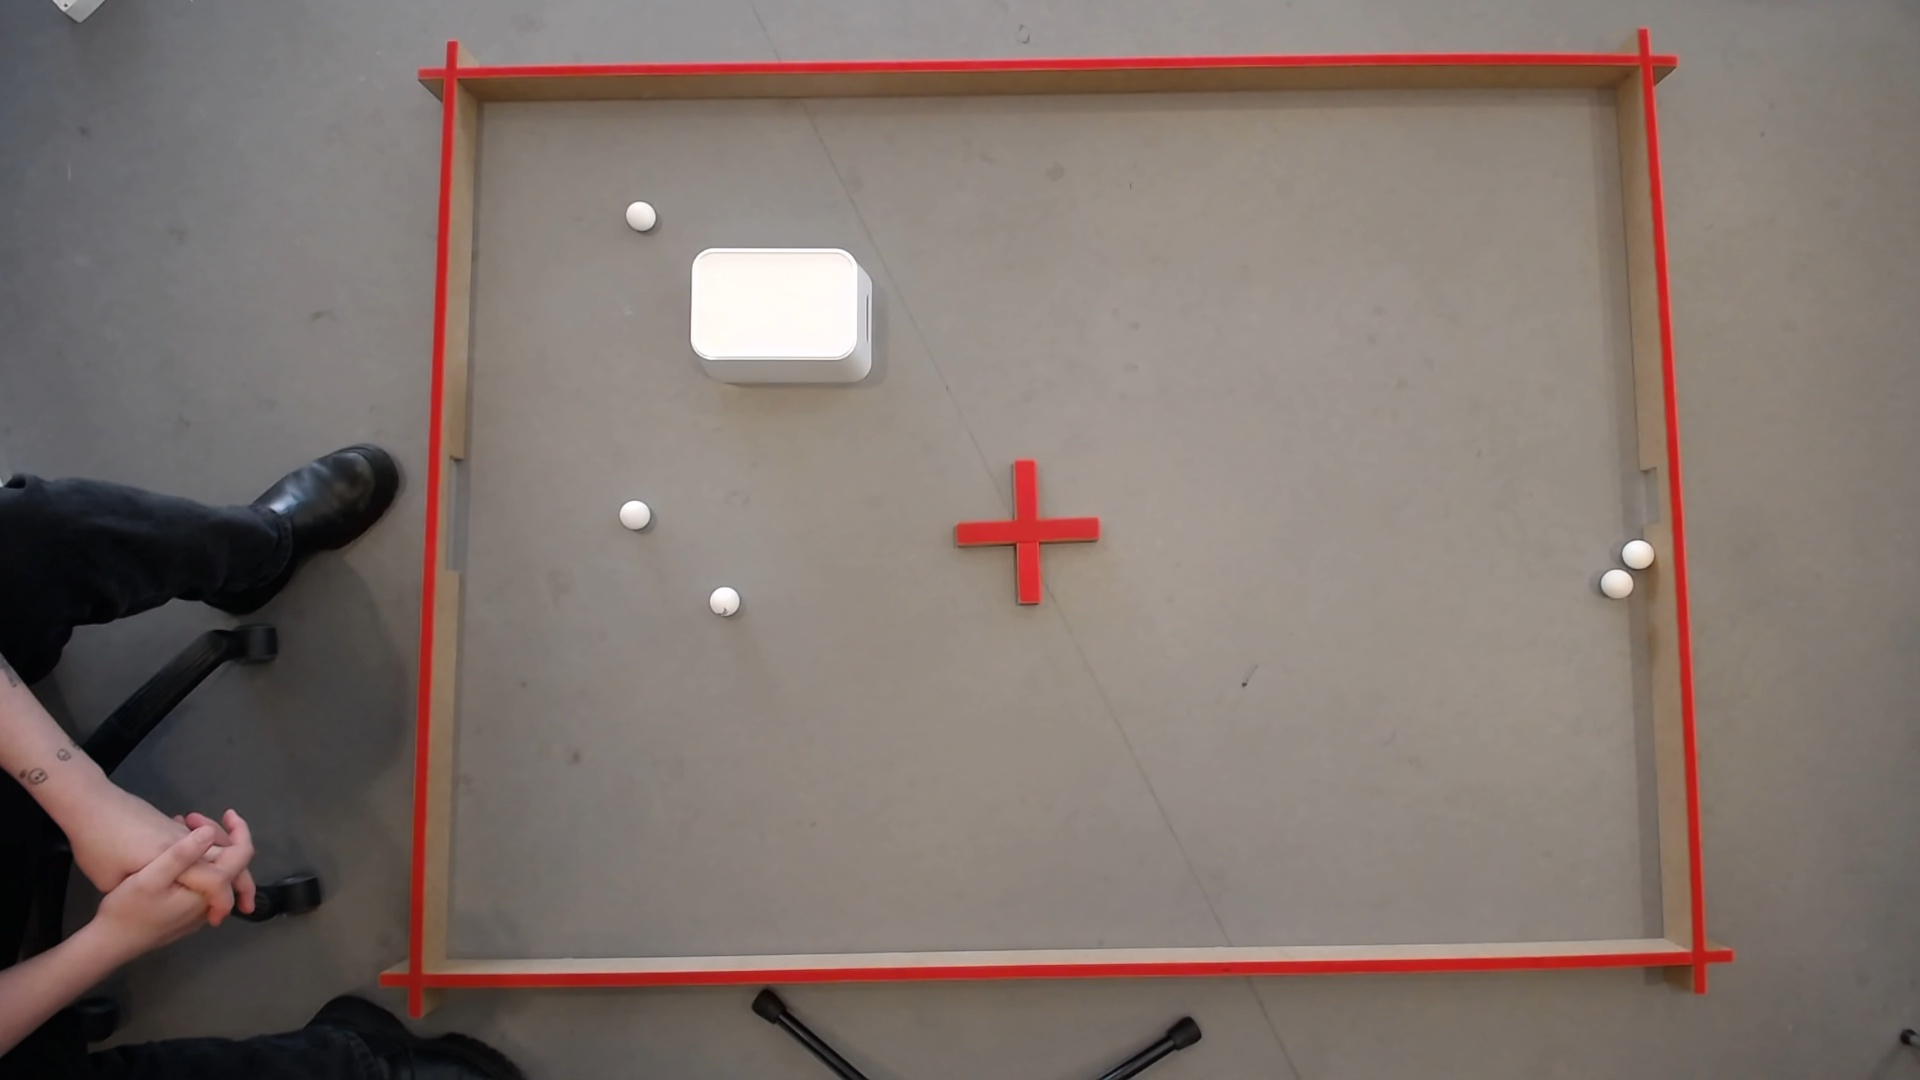balls: (690, 248, 857, 360), (707, 580, 742, 615), (624, 195, 659, 227), (617, 495, 651, 526), (1622, 539, 1650, 563)
car: (1600, 563, 1633, 593)
